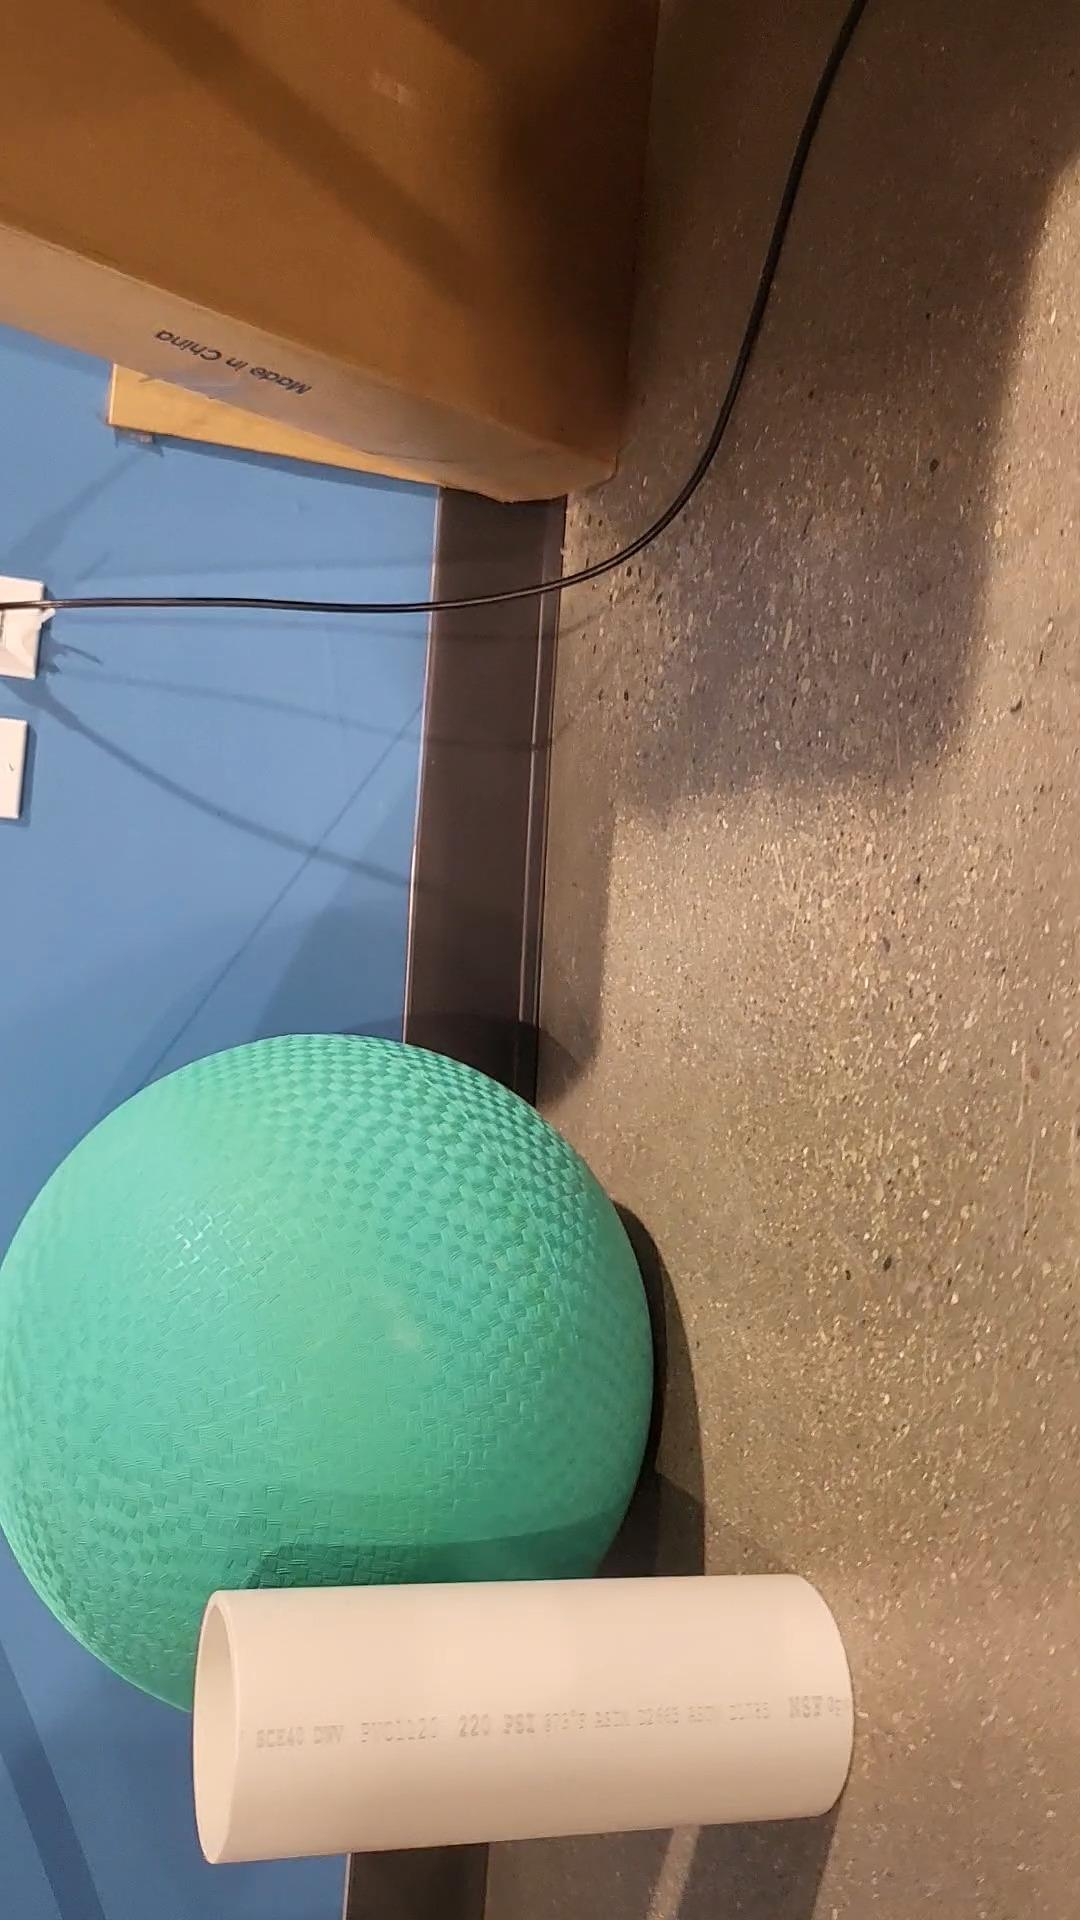algae: (0, 1038, 657, 1712)
coral: (193, 1573, 851, 1865)
